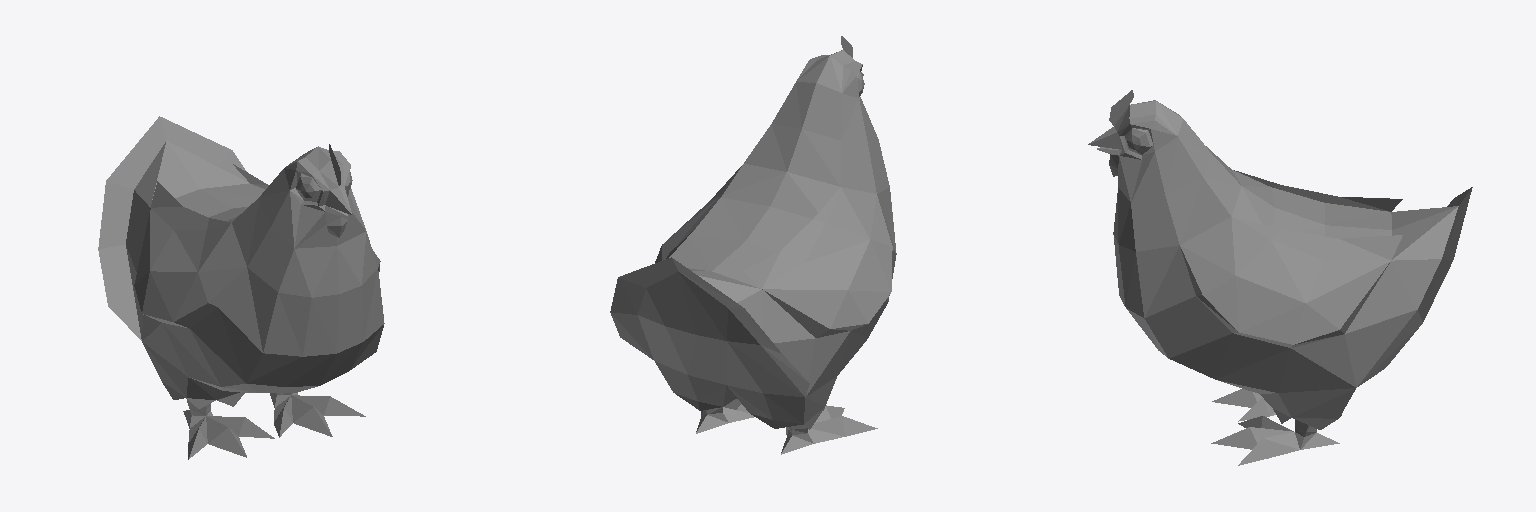
The model's file is Chicken.obj.
3 views of the same model, side by side, from view 1: azimuth 30°, elevation 25°; view 2: azimuth 150°, elevation 25°; view 3: azimuth 270°, elevation 25° (orthographic).
Parts seen in each view (by area): view 1: Mesh0; view 2: Mesh0; view 3: Mesh0.
Part boxes in pixels (bbox=[...]): Mesh0: bbox=[98, 116, 384, 459]; Mesh0: bbox=[610, 36, 896, 454]; Mesh0: bbox=[1088, 90, 1472, 465].
Bounding box in the file's own units: 14.13 × 20.96 × 21.97.